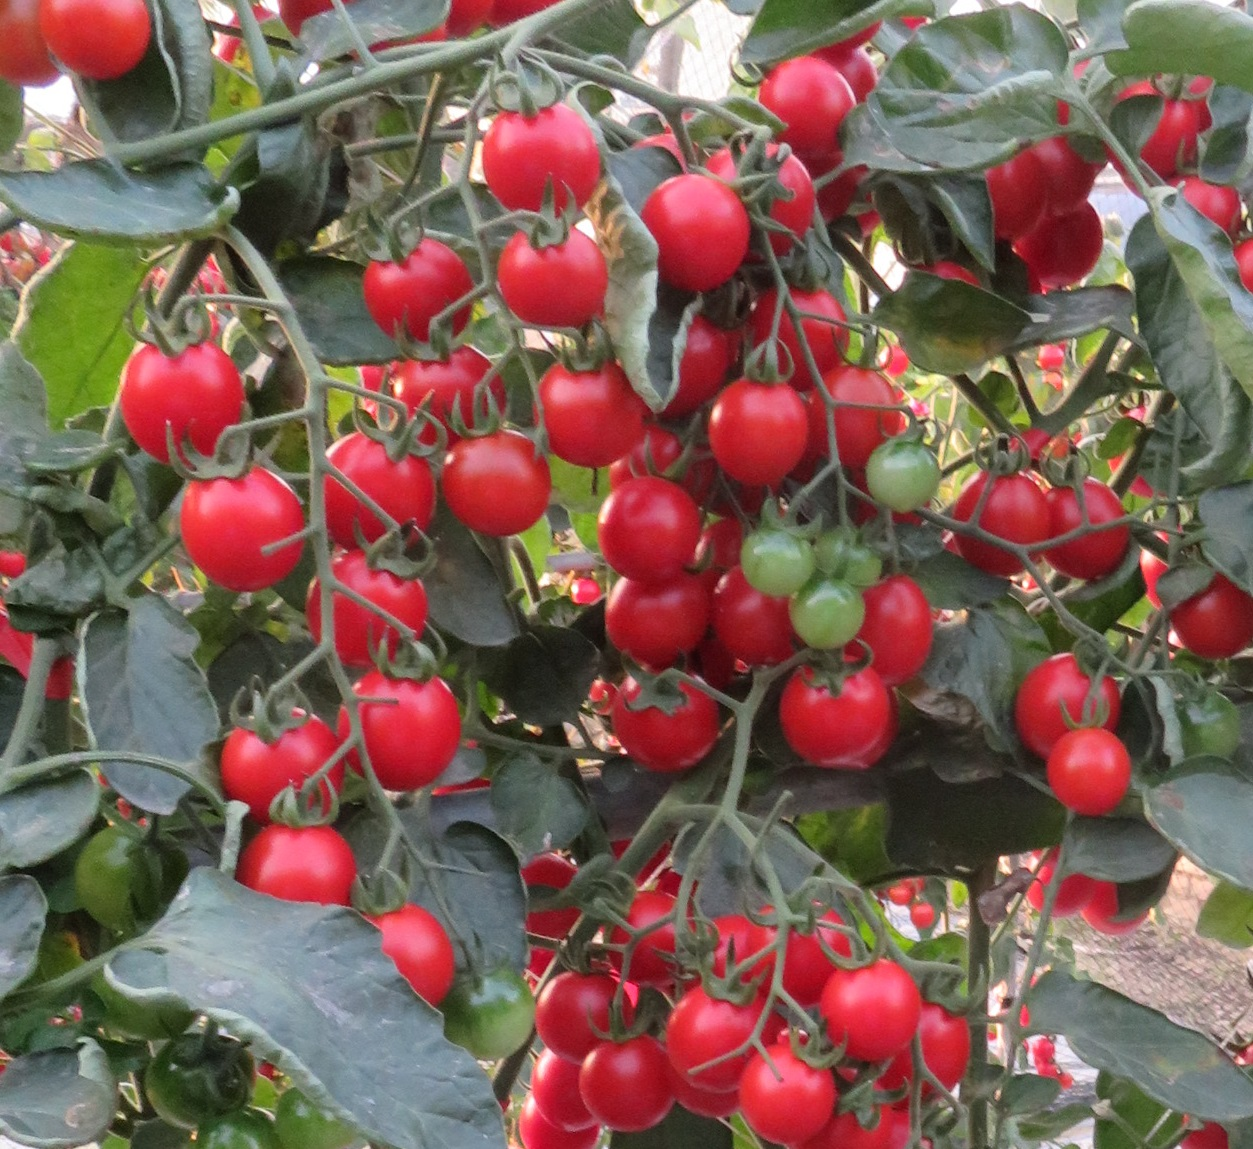green: (65, 819, 162, 925), (143, 1029, 254, 1115), (460, 968, 535, 1073), (866, 433, 939, 515), (786, 583, 872, 646), (1189, 687, 1249, 770), (745, 529, 804, 605)
red: (178, 456, 317, 589), (118, 330, 256, 459), (472, 99, 604, 224), (302, 544, 440, 663), (363, 226, 493, 349), (208, 701, 345, 814), (342, 661, 465, 786), (596, 665, 732, 775), (776, 665, 904, 779), (634, 173, 753, 294), (438, 424, 557, 542), (485, 220, 617, 326), (703, 366, 816, 488), (326, 424, 441, 544), (532, 356, 657, 464), (232, 809, 363, 907), (745, 898, 857, 1012), (813, 958, 926, 1068), (664, 979, 768, 1088), (596, 482, 705, 586), (757, 53, 861, 163), (41, 1, 164, 93), (382, 354, 509, 442), (742, 1034, 845, 1140), (359, 902, 462, 1008), (601, 887, 708, 988), (1021, 653, 1124, 755), (602, 574, 711, 670), (577, 1034, 680, 1134), (714, 561, 791, 679), (962, 476, 1051, 573), (888, 995, 970, 1099), (859, 561, 932, 671), (530, 1044, 617, 1135), (522, 976, 635, 1044), (1176, 568, 1253, 660), (1055, 725, 1126, 818), (1057, 487, 1133, 573), (1, 1, 67, 96), (979, 154, 1052, 237), (1040, 217, 1109, 284)
